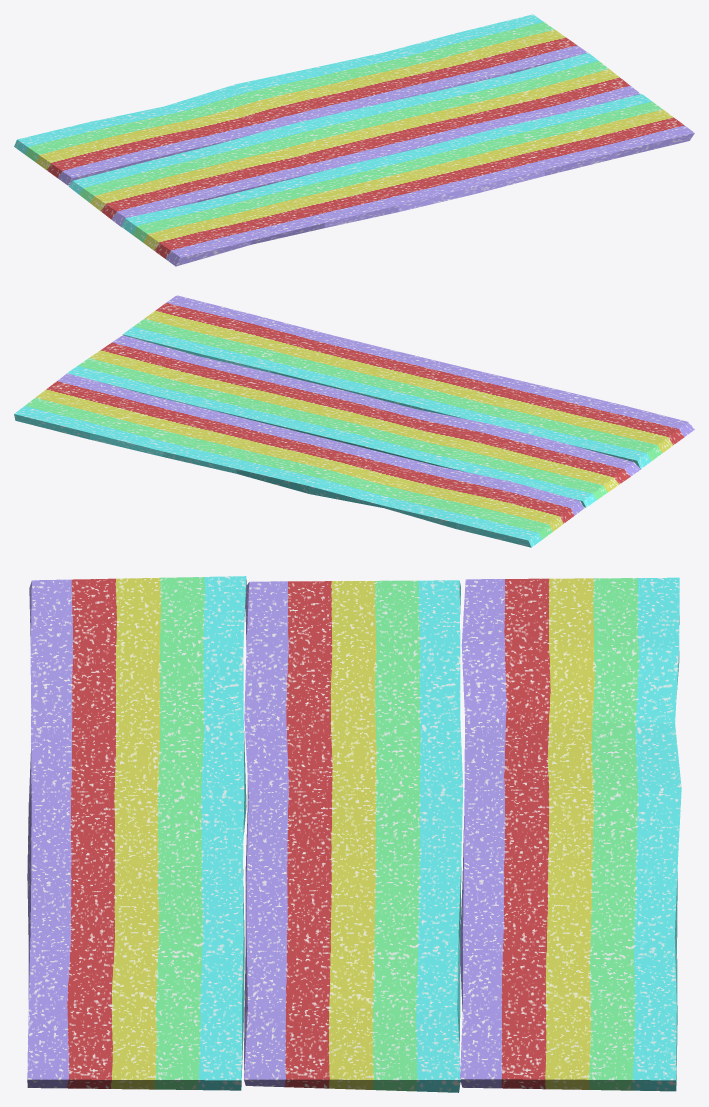
File: Dywan.fbx
The picture shows the model from 3 angles, top to bottom: view 1: azimuth 30°, elevation 25°; view 2: azimuth 150°, elevation 25°; view 3: azimuth 270°, elevation 25°; orthographic projection. The views are drawn at different scales.
Parts seen in each view (by area): view 1: Dywan.002; view 2: Dywan.002; view 3: Dywan.002.
Boxes of the visible parts, x1,y1,x2,y2 form: Dywan.002: (14,14,694,266); Dywan.002: (14,295,694,547); Dywan.002: (27,576,681,1092).
Bounding box in the file's own units: 743 × 12.82 × 404.
Materials: 1 (1 with a texture image).
